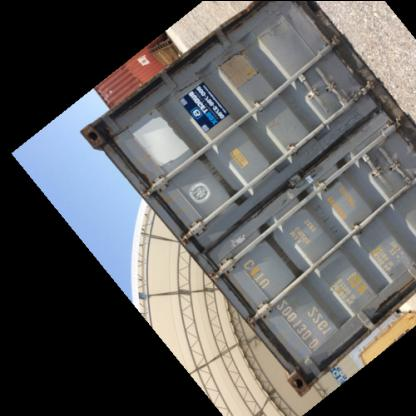Damage: (311, 110, 387, 152), (212, 39, 274, 89), (282, 349, 320, 395), (303, 197, 339, 239), (168, 74, 202, 99), (127, 164, 153, 188)
